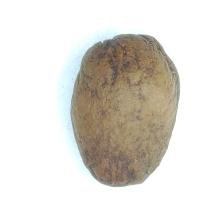NG: (92, 32, 165, 83)
